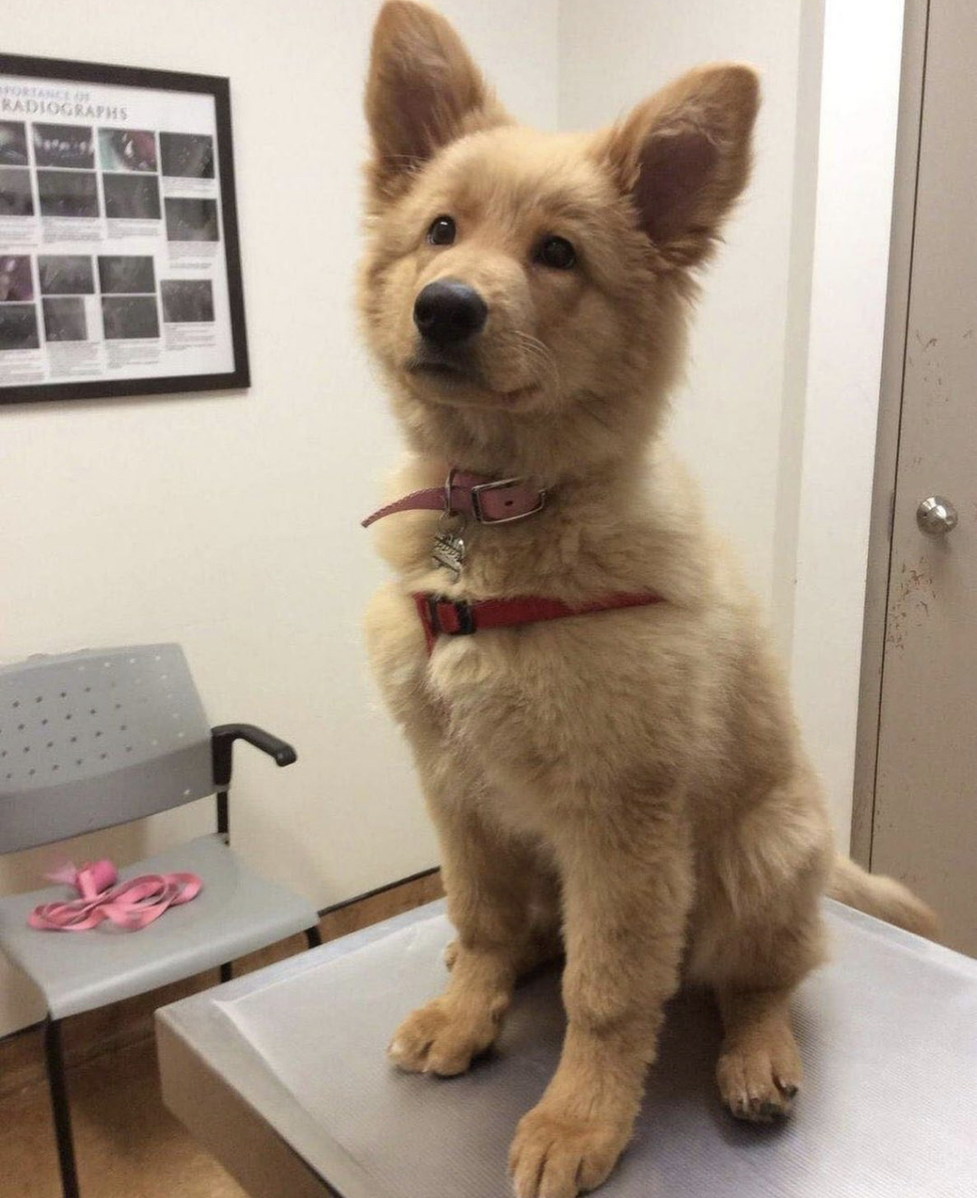dog: (338, 9, 823, 1198)
